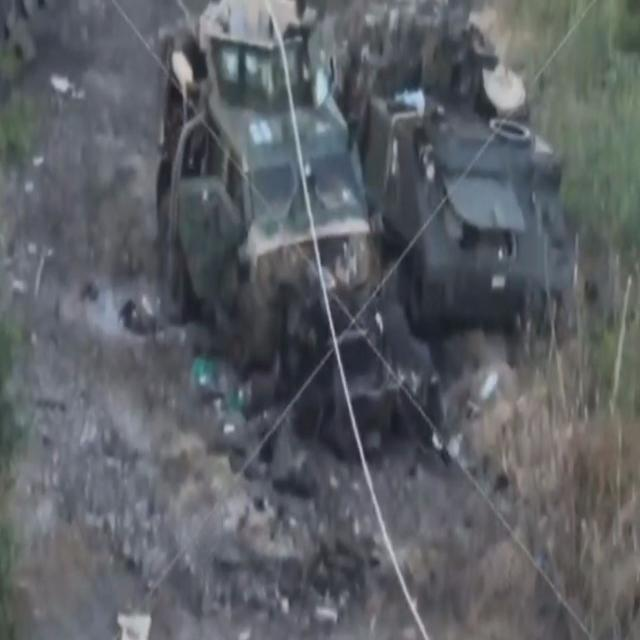APC: (360, 1, 590, 351)
Destroyed: (156, 1, 375, 408)
